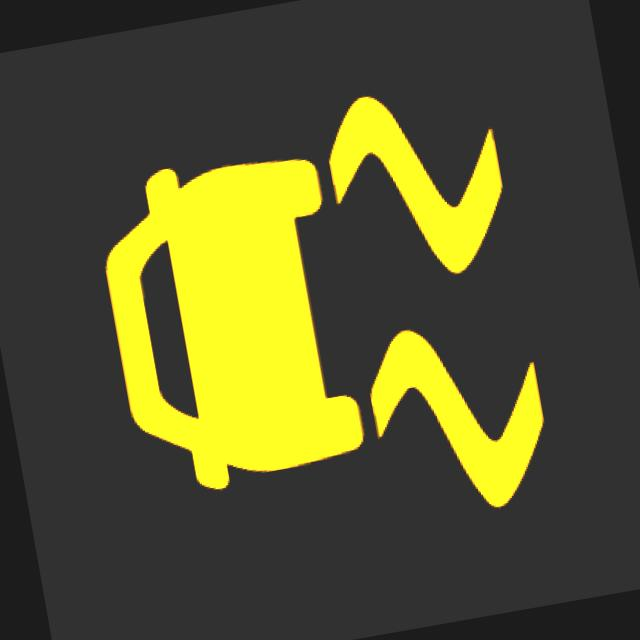kontrolka: (52, 48, 581, 578)
